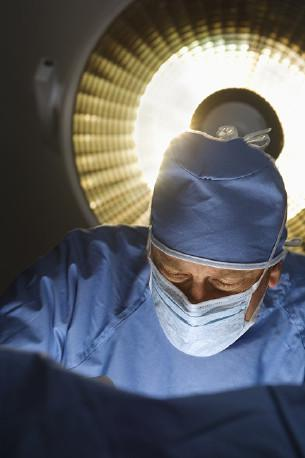OK: (142, 239, 261, 358)
